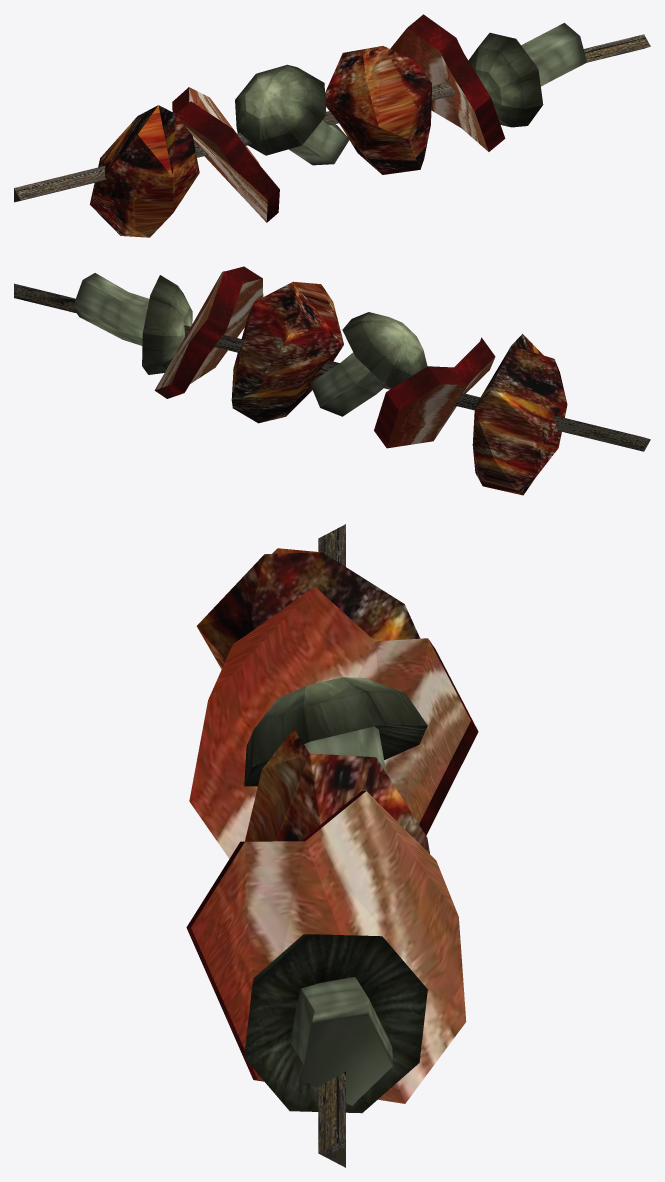
The model's file is KM_ITFO_SHASHLIK.glb.
3 renders of one model, top to bottom at view 1: azimuth 30°, elevation 25°; view 2: azimuth 150°, elevation 25°; view 3: azimuth 270°, elevation 25°, orthographic. The views are drawn at different scales.
Parts seen in each view (by area): view 1: KM_ITFO_SHASHLIK; view 2: KM_ITFO_SHASHLIK; view 3: KM_ITFO_SHASHLIK.
Part boxes in pixels (x1,y1,x2,y2): KM_ITFO_SHASHLIK: [14, 14, 650, 237]; KM_ITFO_SHASHLIK: [14, 266, 650, 495]; KM_ITFO_SHASHLIK: [186, 524, 478, 1167].
Size of the model in its own units: 0.5232 by 0.1187 by 0.1051.
Materials: 4 (4 with a texture image).
